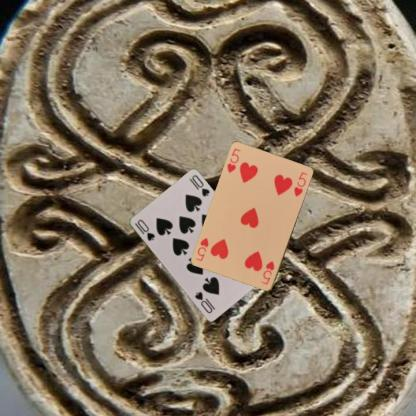10s: (132, 217, 156, 242)
5h: (224, 146, 242, 175), (258, 259, 276, 286)
